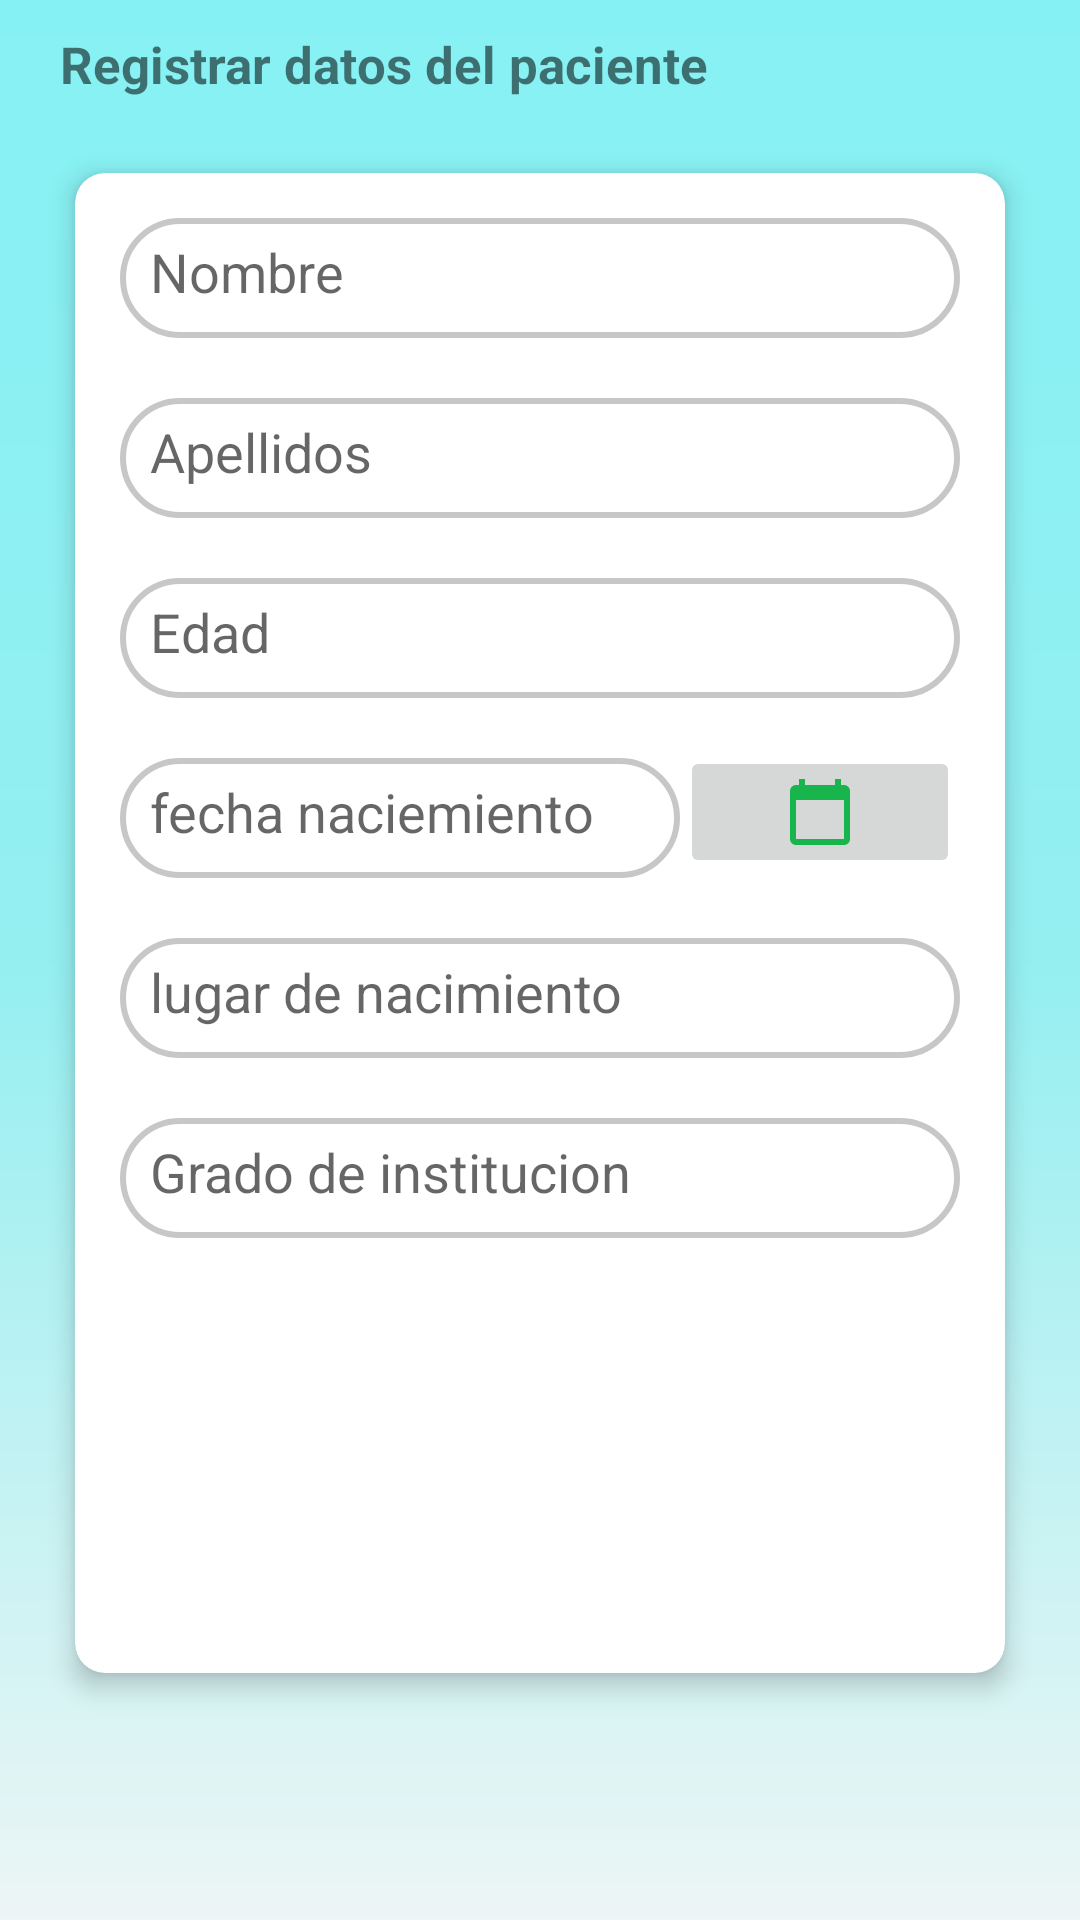

Icons on this 1080*1920 Android screen, each with the point to tap as [x,y]:
calendar: [820,812]
